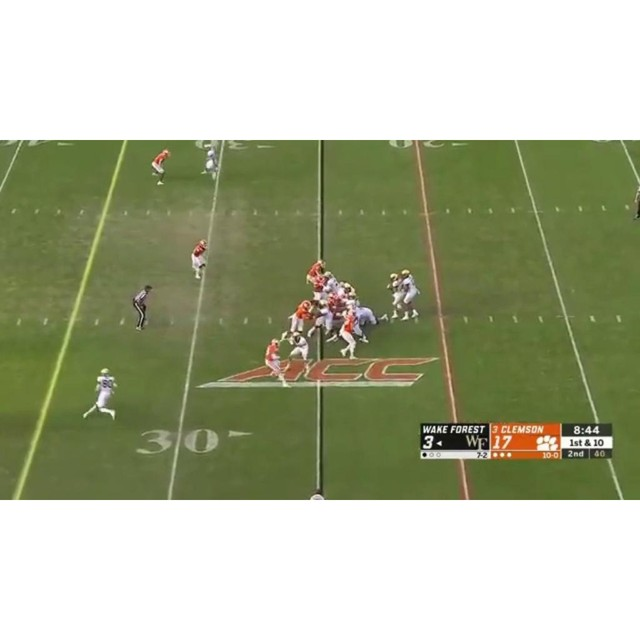american-football-player: (82, 367, 117, 421), (308, 294, 336, 341), (282, 331, 311, 376), (282, 300, 313, 339), (399, 269, 422, 321), (336, 310, 359, 359), (386, 271, 407, 320), (264, 337, 286, 383), (201, 143, 221, 180), (151, 149, 170, 185), (191, 239, 208, 279), (305, 259, 326, 286)
referee: (132, 284, 153, 331)
